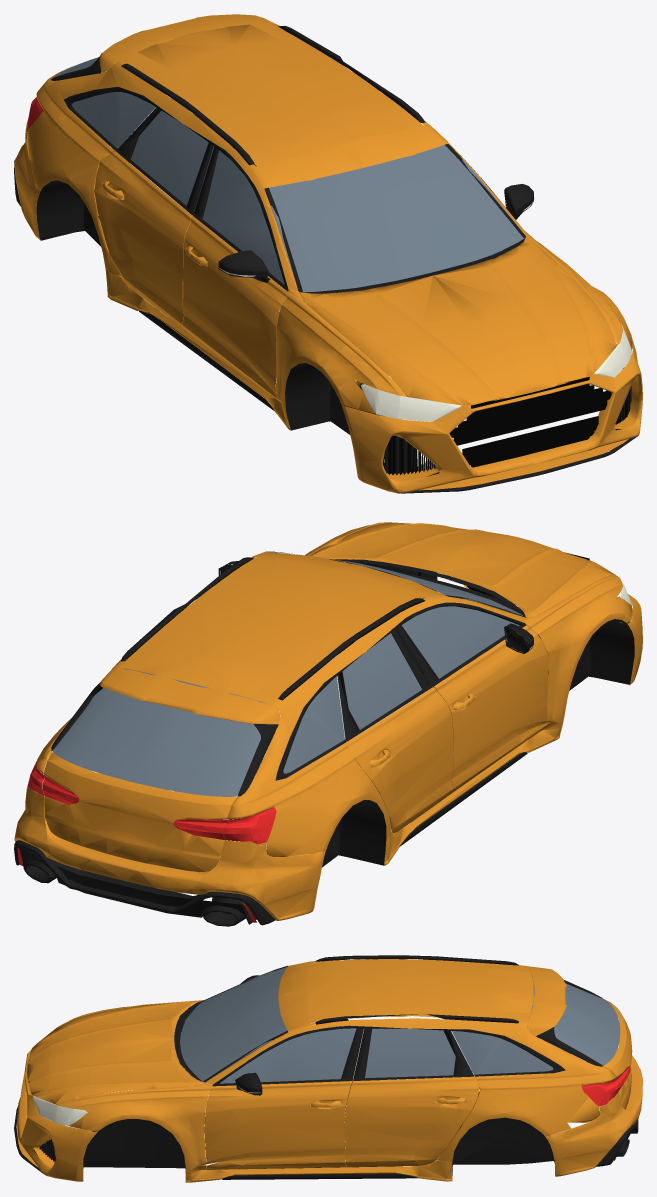
File: protoWagon.glb
The picture shows the model from 3 angles, top to bottom: view 1: azimuth 30°, elevation 25°; view 2: azimuth 150°, elevation 25°; view 3: azimuth 270°, elevation 25°; orthographic projection. The views are drawn at different scales.
Parts seen in each view (by area): view 1: Body; view 2: Body; view 3: Body.
Boxes of the visible parts, left/top/right/bottom form: Body: left=14, top=14, right=642, bottom=493; Body: left=14, top=522, right=642, bottom=926; Body: left=14, top=955, right=642, bottom=1182.
Bounding box in the file's own units: 2.12 × 1.32 × 5.
